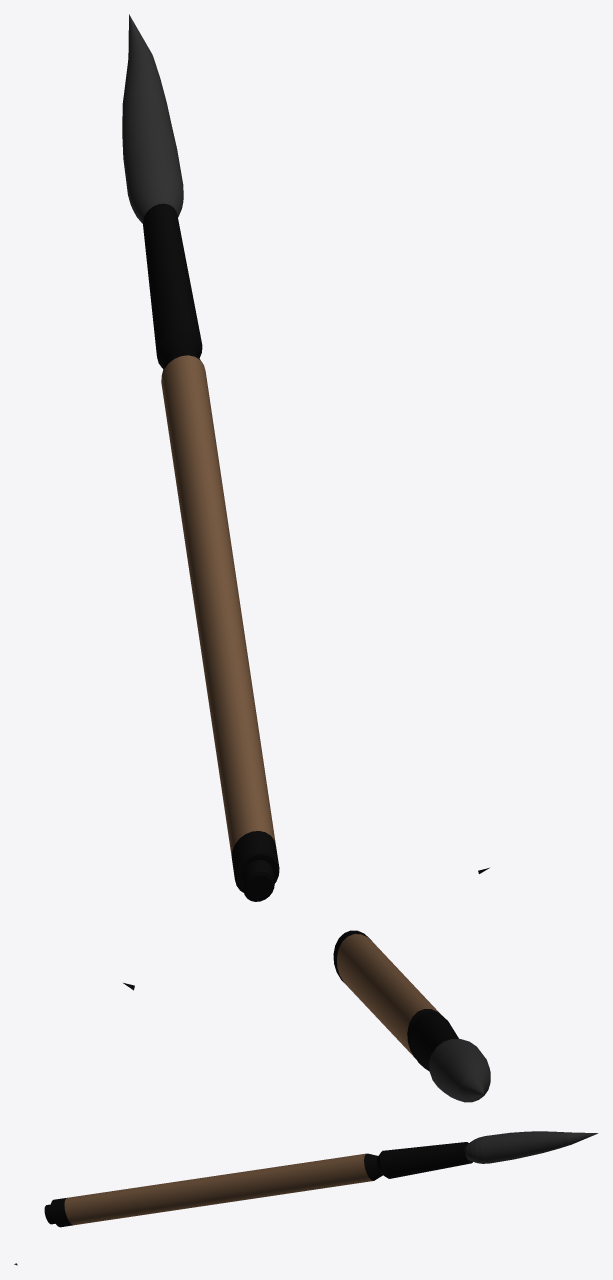
The picture shows the model from 3 angles, top to bottom: view 1: azimuth 30°, elevation 25°; view 2: azimuth 210°, elevation 25°; view 3: azimuth 270°, elevation 25°; orthographic projection. The views are drawn at different scales.
Parts seen in each view (by area): view 1: 1; view 2: 1; view 3: 1.
Part boxes in pixels (x1,y1,x2,y2): 1: [122, 14, 489, 901]; 1: [123, 930, 490, 1102]; 1: [14, 1131, 597, 1265].
Size of the model in its own units: 1254 by 1075 by 2938.
